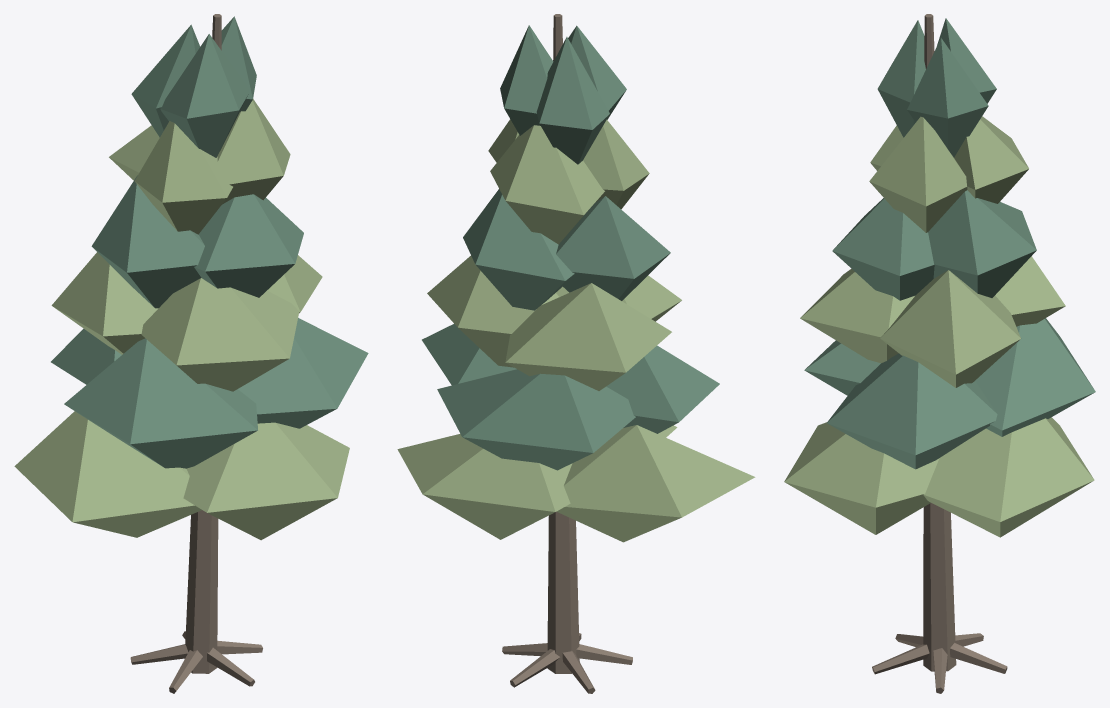
3 views of the same model, side by side, from view 1: azimuth 30°, elevation 25°; view 2: azimuth 150°, elevation 25°; view 3: azimuth 270°, elevation 25° (orthographic).
Bounding box in the file's own units: 8.43 × 16.61 × 7.16.
